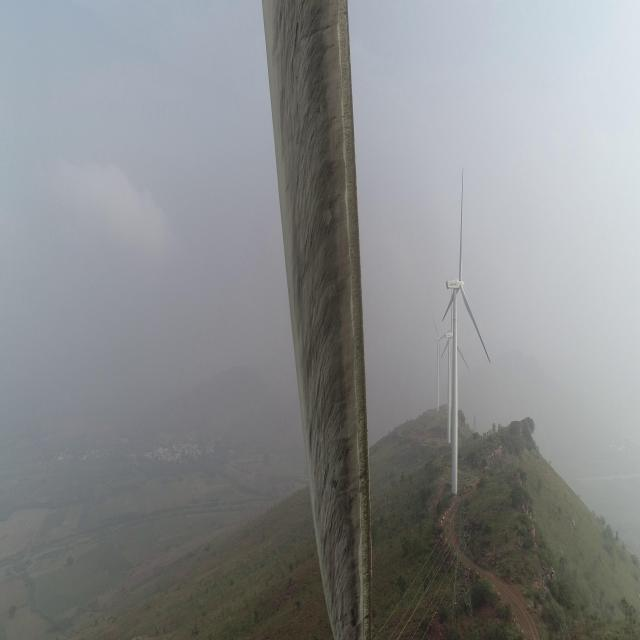Dirt: (261, 0, 374, 639)
